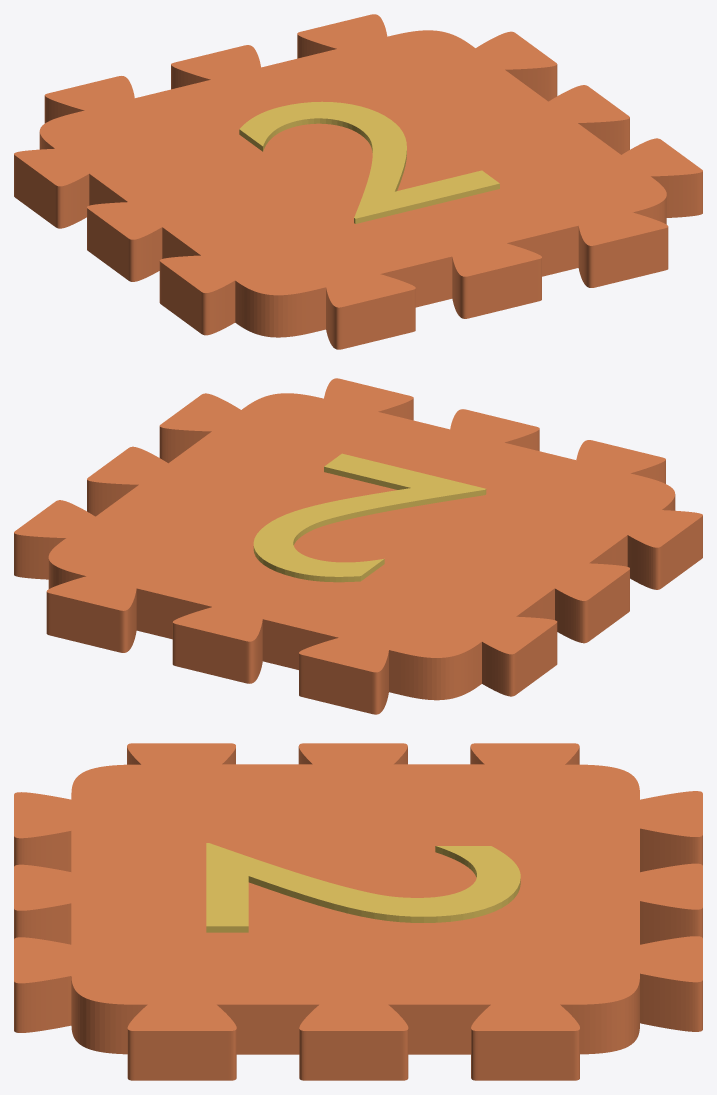
The model's file is puzzel_2_update.fbx.
The picture shows the model from 3 angles, top to bottom: view 1: azimuth 30°, elevation 25°; view 2: azimuth 150°, elevation 25°; view 3: azimuth 270°, elevation 25°; orthographic projection. The views are drawn at different scales.
Visible parts, largest first — view 1: Text.001; view 2: Text.001; view 3: Text.001.
Part boxes in pixels (box(x1,y1,x2,y2)): Text.001: box(14, 14, 702, 349); Text.001: box(14, 378, 702, 714); Text.001: box(14, 743, 702, 1080).
Bounding box in the file's own units: 239 × 21.75 × 242.
